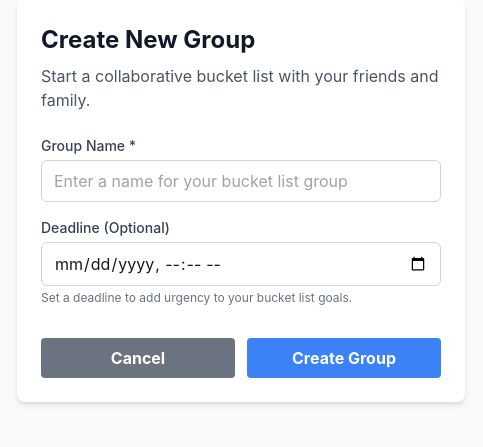
CreateGroupForm › validates required group name
Click the button "Create Group" at {"x": 344, "y": 358}, box [247,338,441,378]
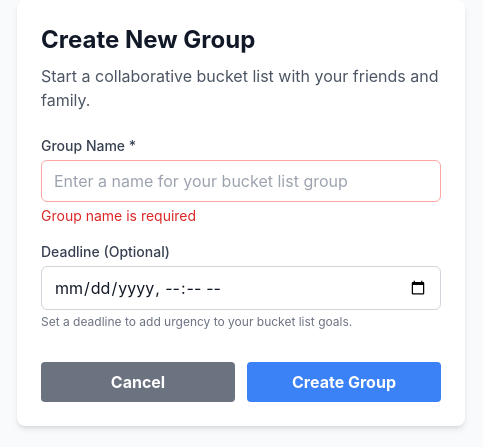
Now the text "Group name is required" is shown, box [41,207,196,224]
